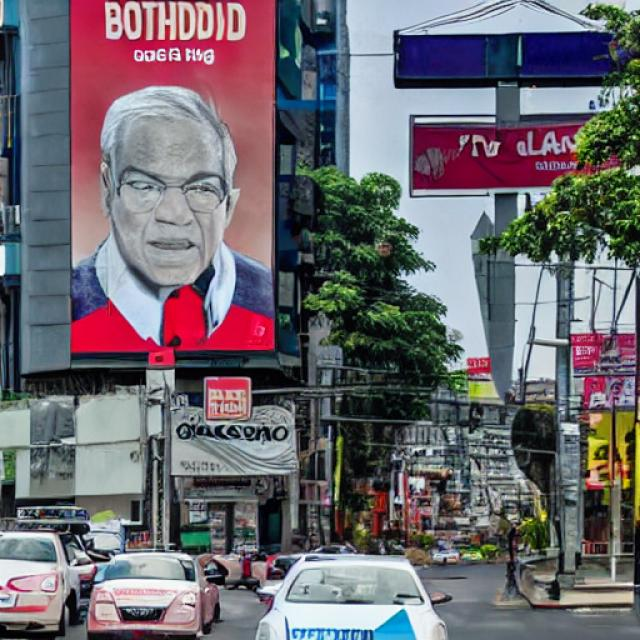Billboard: (67, 0, 281, 361)
